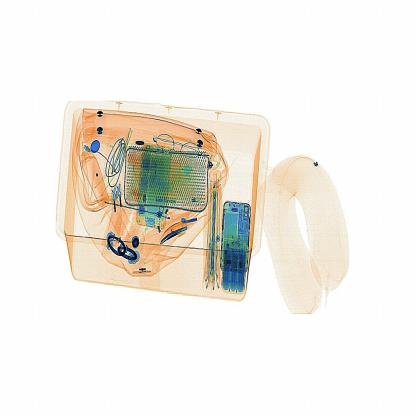pliers: (160, 214, 197, 252)
